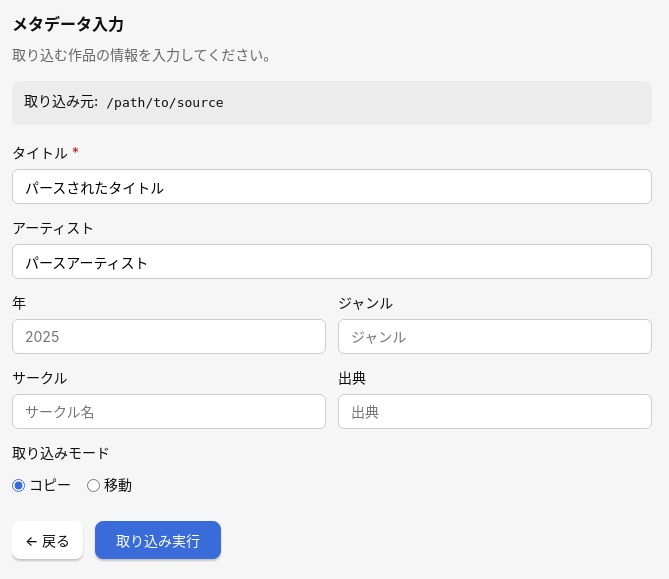
ImportView コンポーネント › initialSourcePath でメタデータステップ › 戻るボタンで選択ステップに戻る
Expected: the heading "メタデータ入力" is shown, [12, 14, 124, 34]
Click the button "← 戻る": [48, 540] box [12, 521, 83, 559]
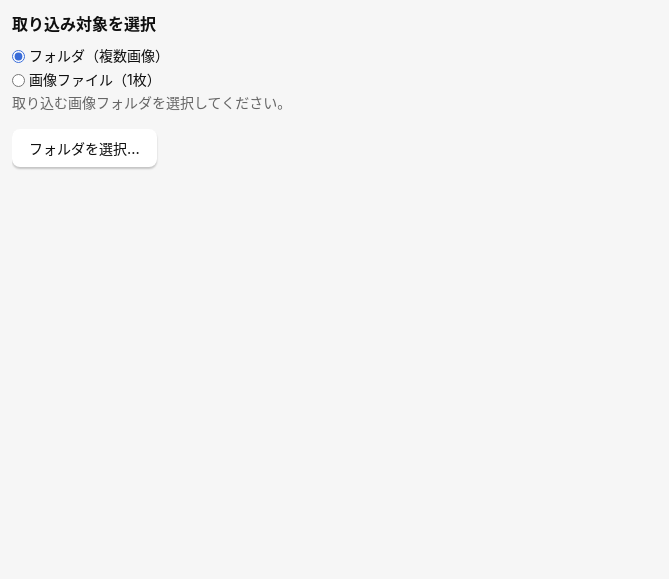
Result: the heading "取り込み対象を選択" is shown at [12, 14, 156, 34]
